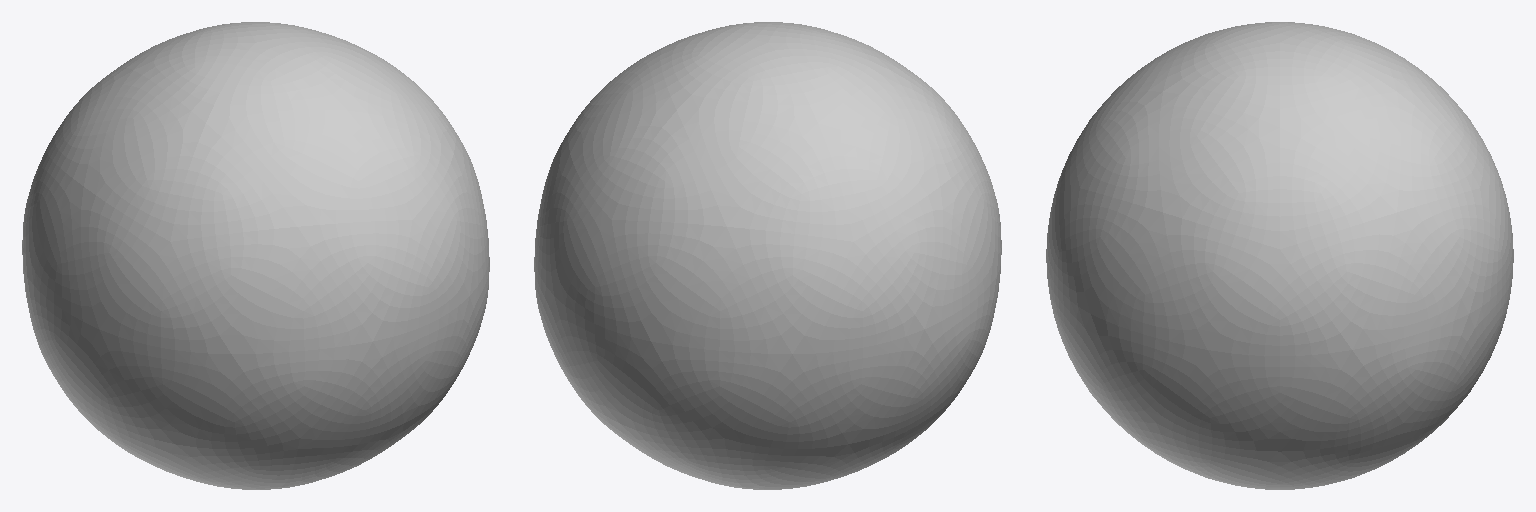
The model's file is centerball.obj.
3 renders of one model, left to right at view 1: azimuth 30°, elevation 25°; view 2: azimuth 150°, elevation 25°; view 3: azimuth 270°, elevation 25°, orthographic.
Parts seen in each view (by area): view 1: 棱角球; view 2: 棱角球; view 3: 棱角球.
Boxes of the visible parts, <box> form: 棱角球: <box>22,22,489,489</box>; 棱角球: <box>534,22,1001,489</box>; 棱角球: <box>1046,22,1513,489</box>.
Bounding box in the file's own units: 1.85 × 1.86 × 1.85.